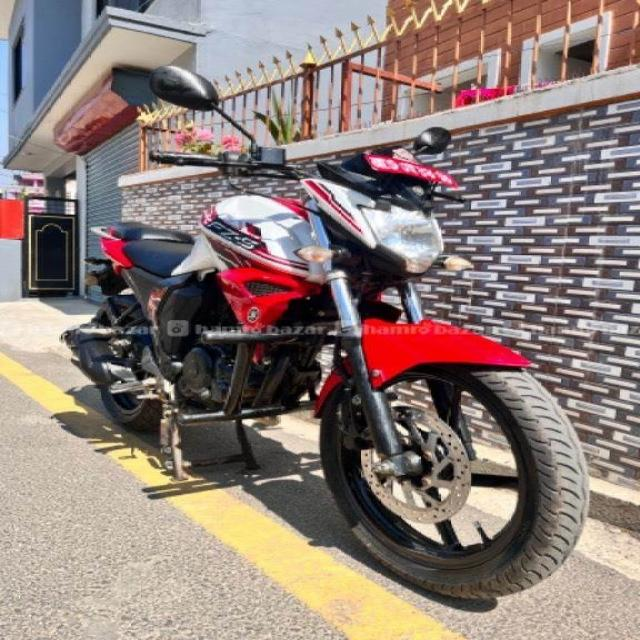License-plate: (360, 155, 460, 185)
